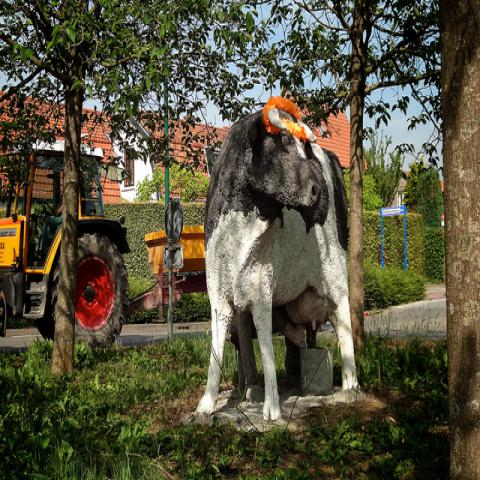truck: (0, 133, 210, 356)
